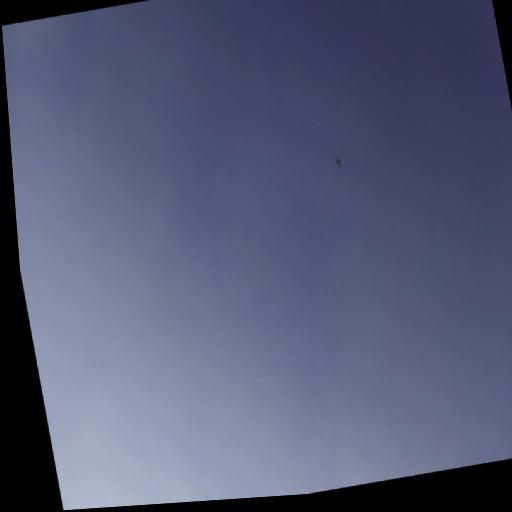drones: (334, 154, 344, 170)
